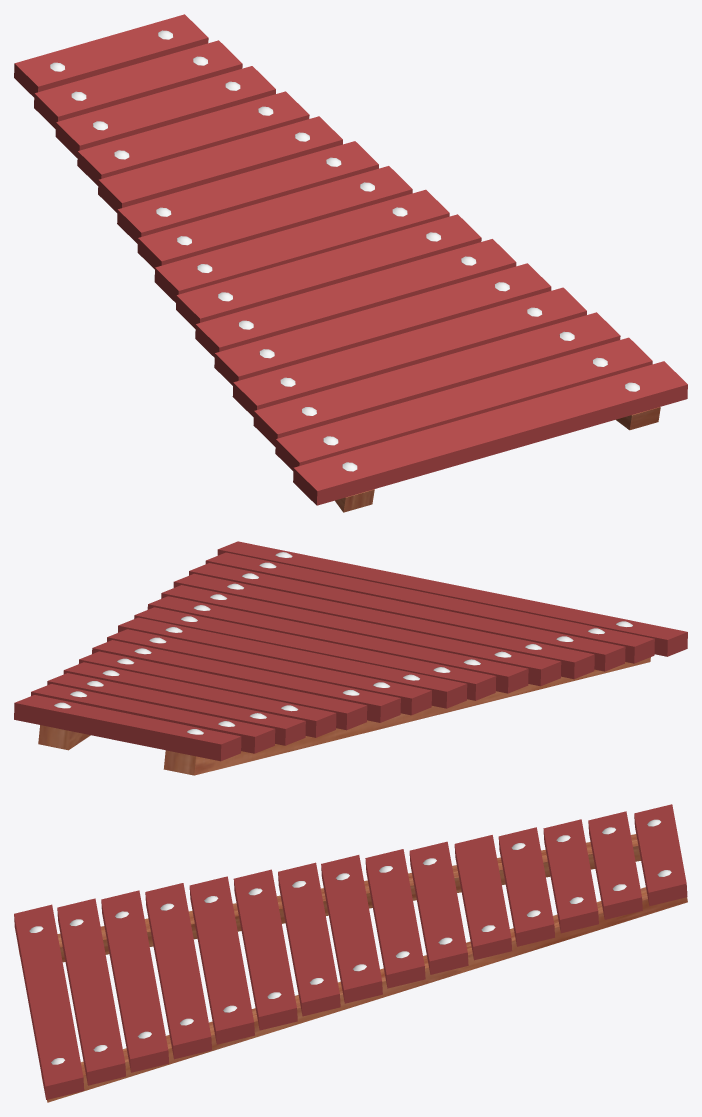
Rendered from Xylophone.fbx.
3 renders of one model, top to bottom at view 1: azimuth 30°, elevation 25°; view 2: azimuth 150°, elevation 25°; view 3: azimuth 270°, elevation 25°, orthographic. The views are drawn at different scales.
Parts seen in each view (by area): view 1: Xylofono; view 2: Xylofono; view 3: Xylofono.
Boxes of the visible parts, x1,y1,x2,y2 form: Xylofono: (14,14,687,512); Xylofono: (14,541,687,775); Xylofono: (14,804,687,1102).
Bounding box in the file's own units: 22.67 × 10.04 × 37.2.
